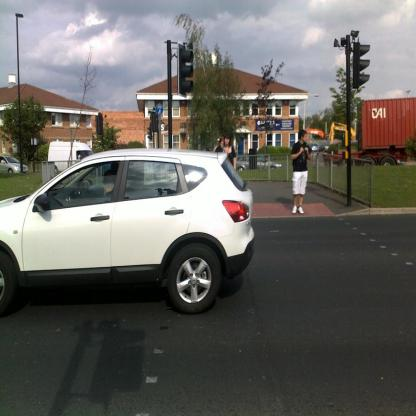car: (0, 144, 255, 313), (236, 154, 280, 174), (0, 153, 29, 175), (311, 141, 318, 150)
person: (291, 128, 311, 216), (216, 134, 237, 169), (100, 167, 118, 201), (213, 137, 223, 150)
